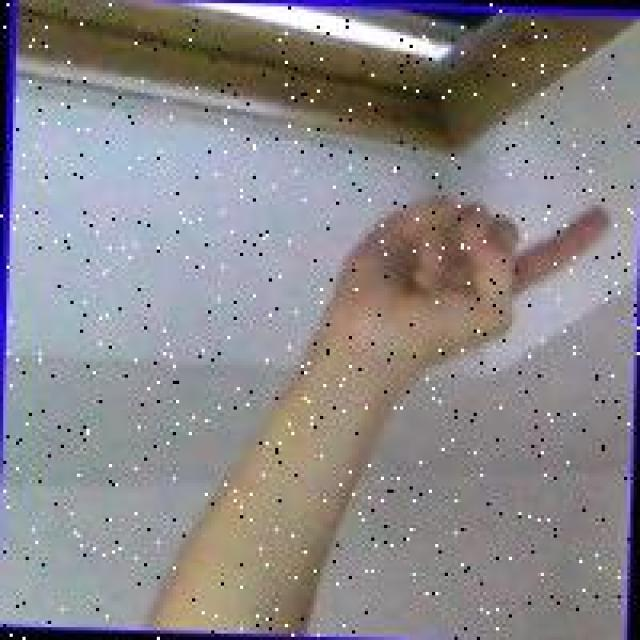Z: (333, 189, 614, 368)
